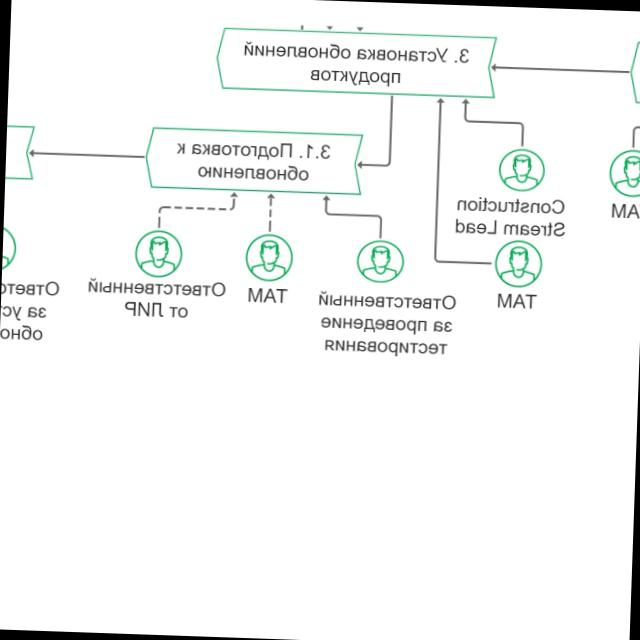arrow: (425, 96, 504, 268), (156, 186, 239, 230), (457, 100, 527, 148), (356, 92, 396, 172), (320, 194, 386, 238), (490, 59, 632, 78), (28, 146, 145, 162), (264, 192, 274, 232)
circle: (245, 234, 292, 281), (494, 241, 541, 287), (135, 231, 181, 277), (357, 241, 403, 282), (499, 149, 543, 191)
rectangle: (217, 28, 494, 97), (146, 128, 361, 195)
text_region: (305, 287, 460, 363), (449, 192, 582, 242), (82, 280, 228, 320), (484, 284, 546, 316), (242, 286, 292, 307)
